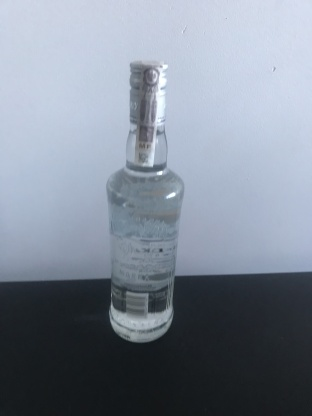nakretka: (126, 55, 169, 128)
